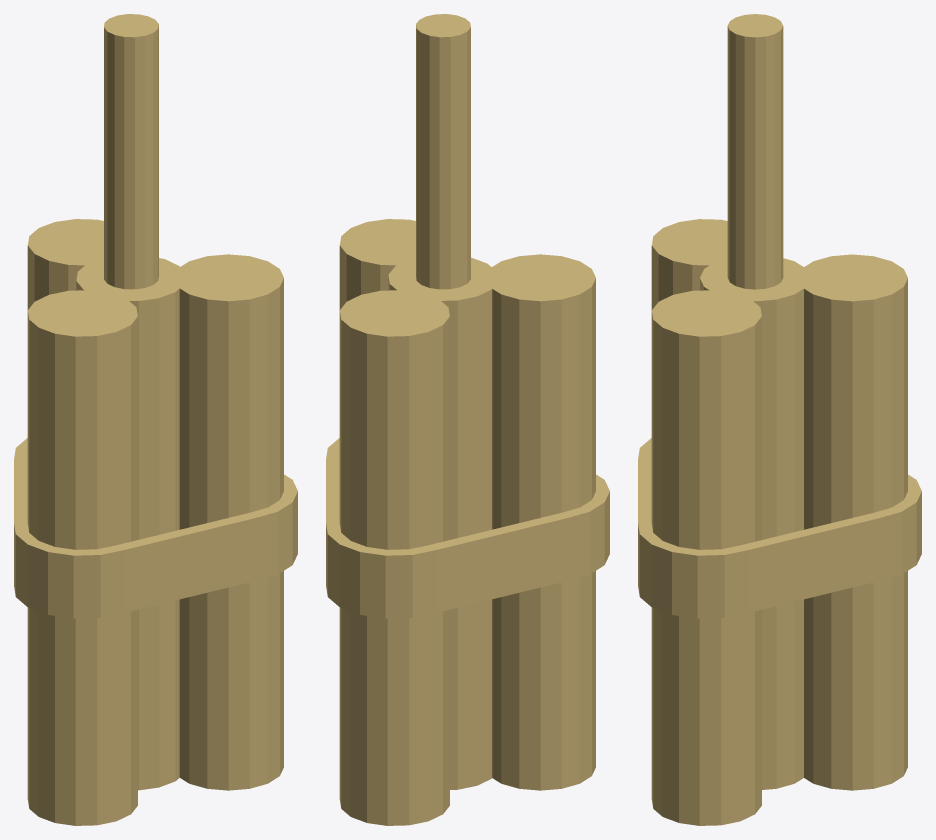
Rendered from Dynamite.fbx.
The picture shows the model from 3 angles, left to right: view 1: azimuth 30°, elevation 25°; view 2: azimuth 150°, elevation 25°; view 3: azimuth 270°, elevation 25°; orthographic projection.
Visible parts, largest first — view 1: MB_5-material.060; view 2: MB_5-material.060; view 3: MB_5-material.060.
Part boxes in pixels (<box>): MB_5-material.060: <box>14,14,297,825</box>; MB_5-material.060: <box>326,14,609,825</box>; MB_5-material.060: <box>638,14,921,825</box>.
Size of the model in its own units: 71.81 by 192 by 66.65.
